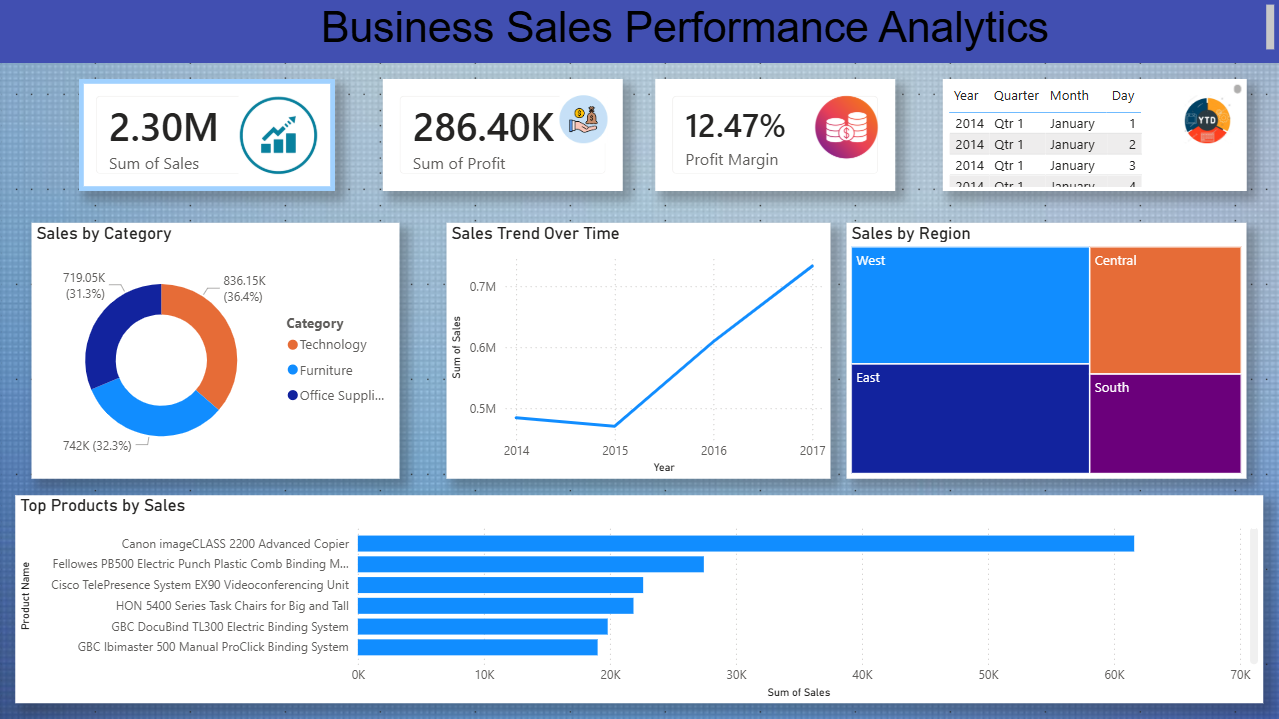

Layout of this report page (visuals, bound fields, positions):
{"tool":"powerbi","page":{"name":"Page 1","canvas":[1280,720],"ordinal":0},"visuals":[{"type":"clusteredColumnChart","title":"Top Products by Sales","fields":{"Y":["Sum(FUTURE_DS_01_Task1_Analysis.Sales)"],"Category":["FUTURE_DS_01_Task1_Analysis.Product Name"]},"box":[38.9,77.8,370,227.8],"z":0},{"type":"lineChart","title":"Sales Trend Over Time","fields":{"Category":["FUTURE_DS_01_Task1_Analysis.Order Date.Variation.Date Hierarchy.Year","FUTURE_DS_01_Task1_Analysis.Order Date.Variation.Date Hierarchy.Quarter","FUTURE_DS_01_Task1_Analysis.Order Date.Variation.Date Hierarchy.Month","FUTURE_DS_01_Task1_Analysis.Order Date.Variation.Date Hierarchy.Day"],"Y":["Sum(FUTURE_DS_01_Task1_Analysis.Sales)"]},"box":[27.8,314.4,442.2,294.4],"z":1000},{"type":"pieChart","title":"Sales Distribution by Category","fields":{"Category":["FUTURE_DS_01_Task1_Analysis.Category"],"Y":["Sum(FUTURE_DS_01_Task1_Analysis.Sales)"]},"box":[491.1,68.9,441.1,268.9],"z":2000},{"type":"treemap","title":"Regional Sales Performance","fields":{"Group":["FUTURE_DS_01_Task1_Analysis.Region"],"Values":["Sum(FUTURE_DS_01_Task1_Analysis.Sales)"]},"box":[556.7,372.2,343.3,244.4],"z":3000},{"type":"textbox","box":[283.8,0,917.5,77.5],"z":6000},{"type":"textbox","box":[205.6,163.3,333.3,13.3],"z":6003},{"type":"textbox","box":[58.8,77.5,165,38.8],"z":6004},{"type":"textbox","box":[324.4,346.7,178.9,34.4],"z":6005},{"type":"textbox","box":[338.9,96.7,227.8,45.6],"z":6006},{"type":"cardVisual","fields":{"Data":["Sum(FUTURE_DS_01_Task1_Analysis.Sales)"]},"box":[983.3,250,177.8,110],"z":6007},{"type":"cardVisual","fields":{"Data":["Sum(FUTURE_DS_01_Task1_Analysis.Profit)"]},"box":[971.1,81.1,192.2,132.2],"z":6008},{"type":"tableEx","fields":{"Values":["FUTURE_DS_01_Task1_Analysis.Order ID"]},"box":[983.3,396.7,192.2,182.2],"z":6009}]}

Visuals, with their boxes in screenshot pixels (x1, y1, x2, y2), scaled from the page's 1280x720 canvas onto the 1279x719 screenshot:
"Top Products by Sales" clusteredColumnChart: x1=39, y1=78, x2=409, y2=305
"Sales Trend Over Time" lineChart: x1=28, y1=314, x2=470, y2=608
"Sales Distribution by Category" pieChart: x1=491, y1=69, x2=931, y2=337
"Regional Sales Performance" treemap: x1=556, y1=372, x2=899, y2=616
textbox: x1=284, y1=0, x2=1200, y2=77
textbox: x1=205, y1=163, x2=538, y2=176
textbox: x1=59, y1=77, x2=224, y2=116
textbox: x1=324, y1=346, x2=503, y2=381
textbox: x1=339, y1=97, x2=566, y2=142
cardVisual - Sum(FUTURE_DS_01_Task1_Analysis.Sales): x1=983, y1=250, x2=1160, y2=360
cardVisual - Sum(FUTURE_DS_01_Task1_Analysis.Profit): x1=970, y1=81, x2=1162, y2=213
tableEx - FUTURE_DS_01_Task1_Analysis.Order ID: x1=983, y1=396, x2=1175, y2=578
